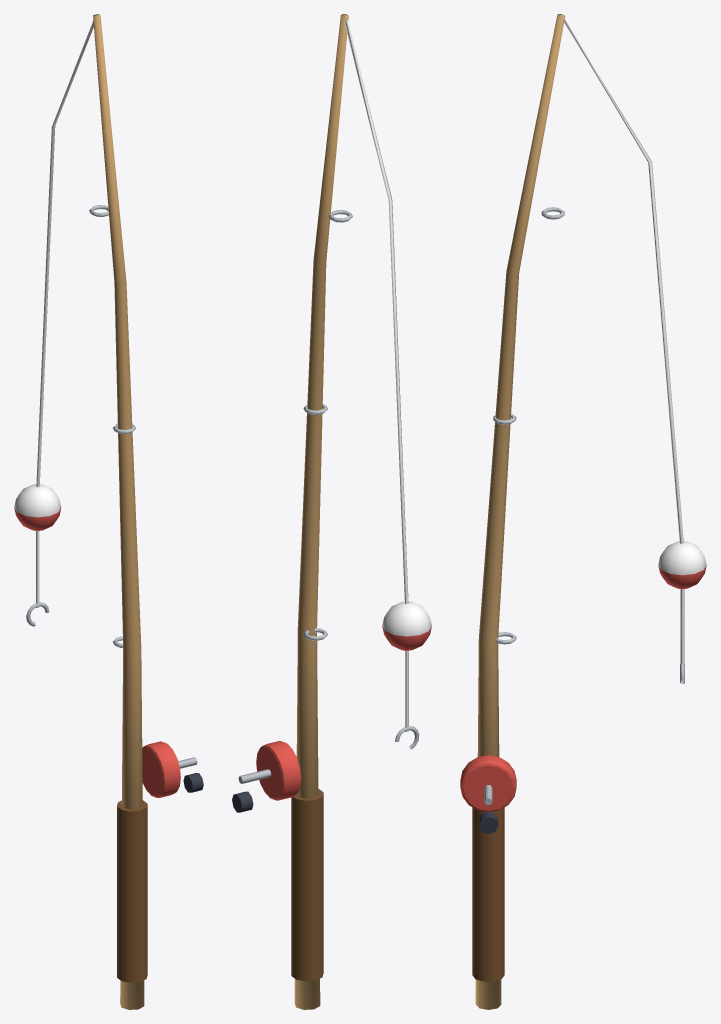
Rendered from vara-de-pescar.glb.
3 renders of one model, left to right at view 1: azimuth 30°, elevation 25°; view 2: azimuth 210°, elevation 25°; view 3: azimuth 270°, elevation 25°, orthographic. The views are drawn at different scales.
Parts seen in each view (by area): view 1: vara-de-pescar; view 2: vara-de-pescar; view 3: vara-de-pescar.
Part boxes in pixels (bbox=[...]): vara-de-pescar: bbox=[14, 14, 203, 1009]; vara-de-pescar: bbox=[232, 14, 431, 1009]; vara-de-pescar: bbox=[460, 14, 706, 1009].
Size of the model in its own units: 0.128 by 1.35 by 0.305.
